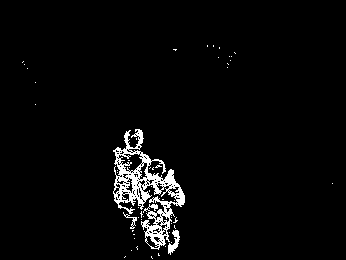person: (137, 159, 184, 255), (114, 127, 150, 250)
